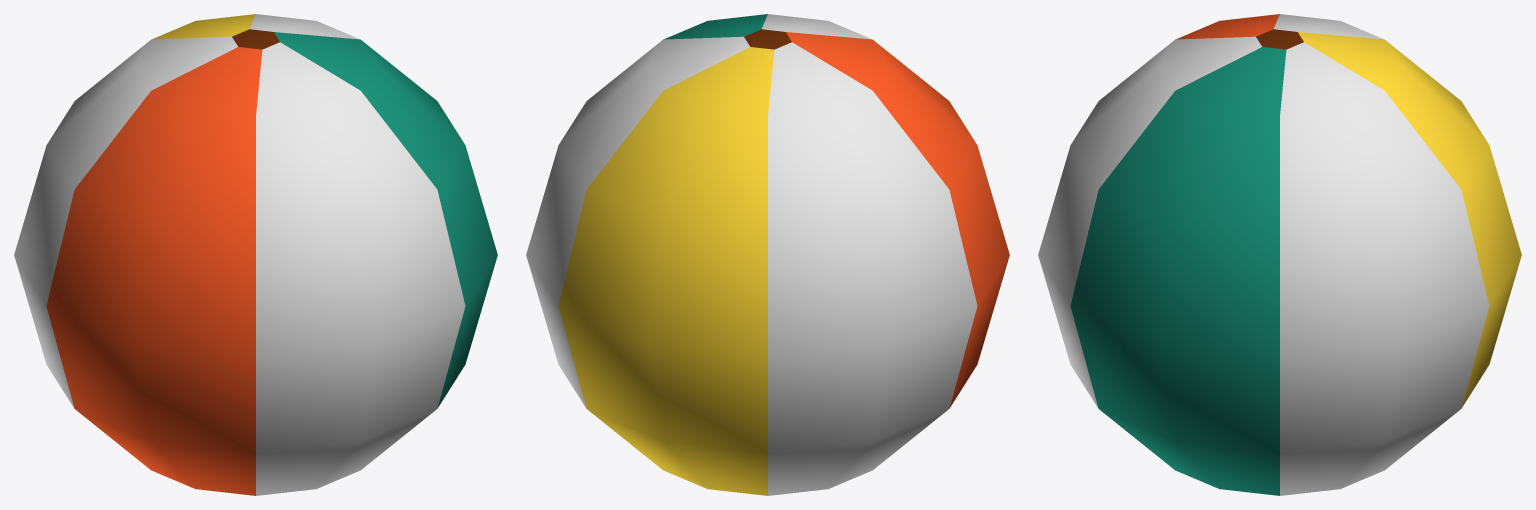
Rendered from bong.fbx.
3 renders of one model, left to right at view 1: azimuth 30°, elevation 25°; view 2: azimuth 150°, elevation 25°; view 3: azimuth 270°, elevation 25°, orthographic.
Parts seen in each view (by area): view 1: bong; view 2: bong; view 3: bong.
Boxes of the visible parts, <box> form: bong: <box>14,14,497,495</box>; bong: <box>526,14,1009,495</box>; bong: <box>1038,14,1521,495</box>.
Bounding box in the file's own units: 128 × 126 × 128.
